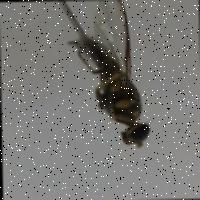Oriental-fruit-fly: (62, 0, 151, 155)
